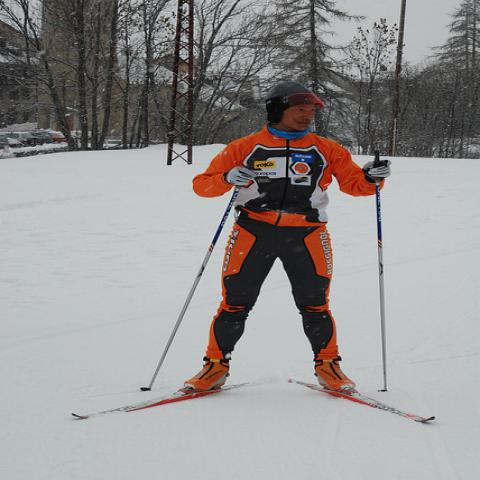car: (0, 131, 44, 148), (0, 134, 25, 148), (33, 132, 54, 143), (49, 132, 67, 144)
